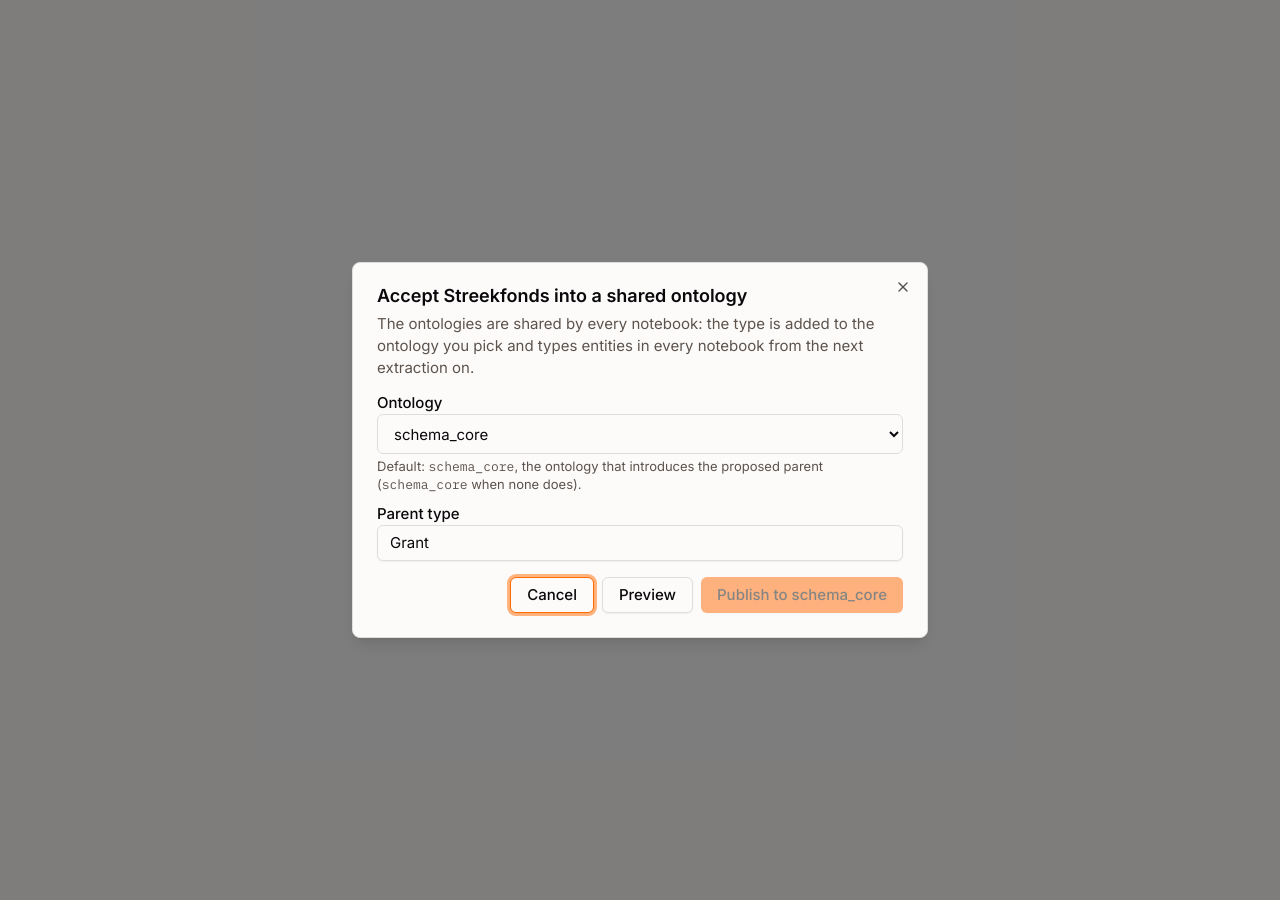
AcceptExtensionDialog › changing the ontology drops the preview it no longer describes
Click the button with test id "accept-preview". click: click(647, 595)
box: 602,577 -> 693,613
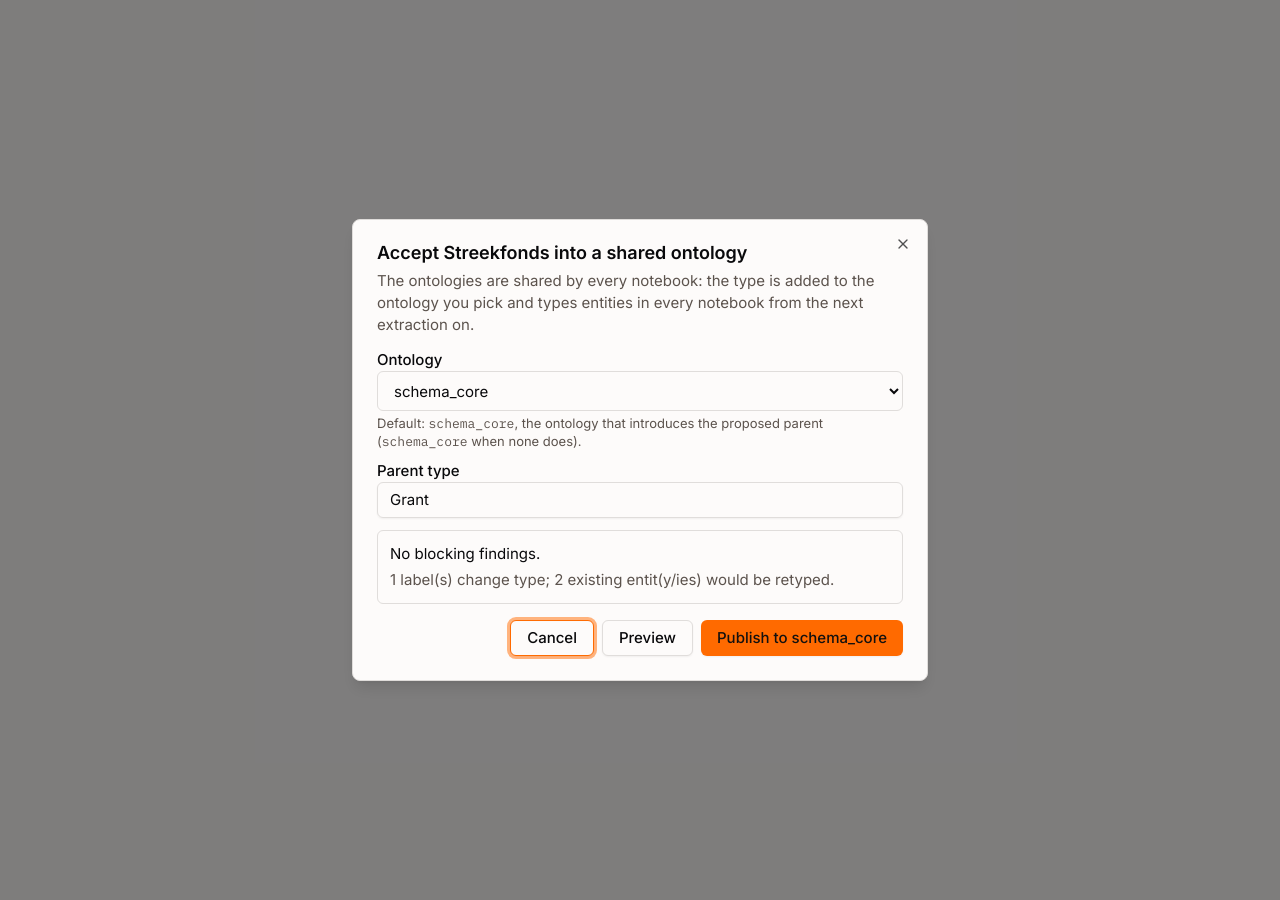
Check: the element with test id "accept-preview-result" is shown, box 377,530 -> 903,604
Select "deals" in the dropdown with test id "accept-ontology". click: (640, 391)
box: 377,371 -> 903,411
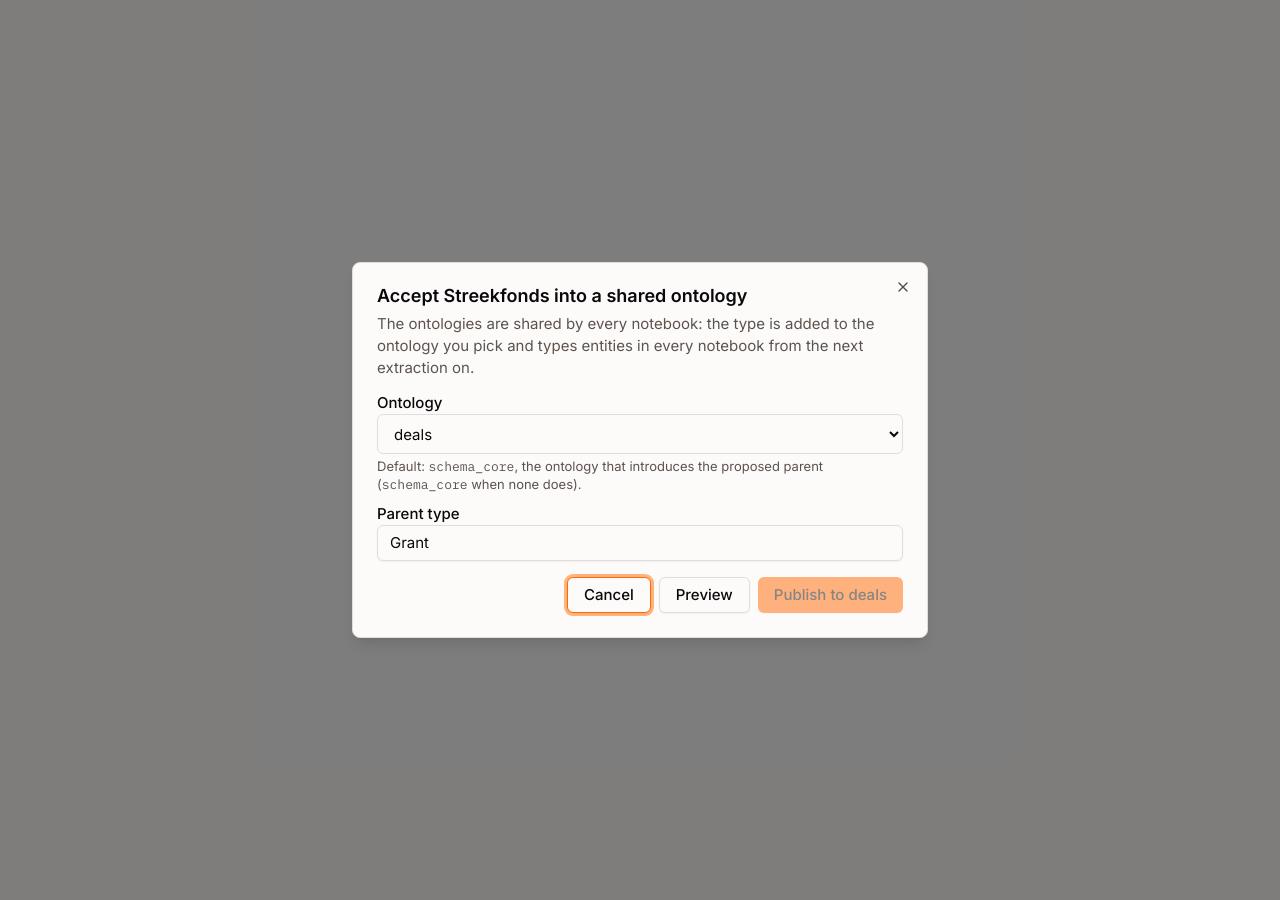
Check: the element with test id "accept-preview-result" is gone
Check: the button with test id "accept-publish" is disabled, box 758,577 -> 903,613
